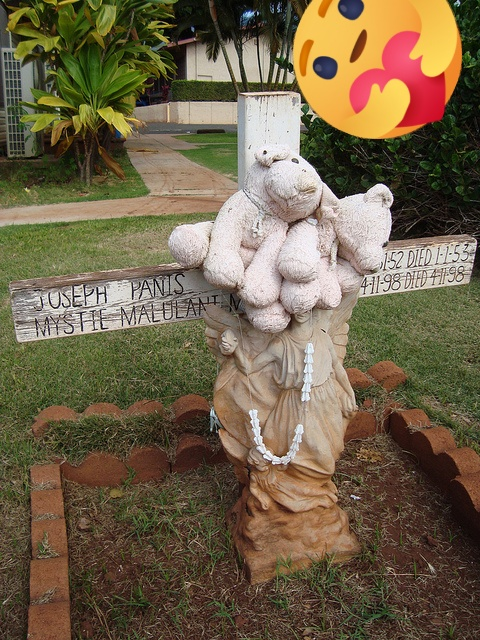care: (293, 0, 462, 139)
